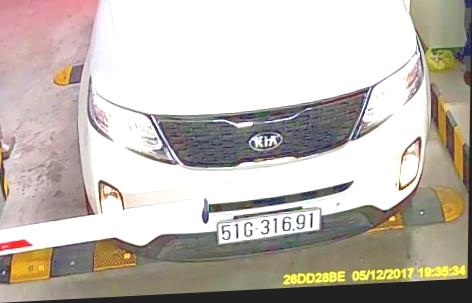License_Plate: (214, 207, 322, 242)
